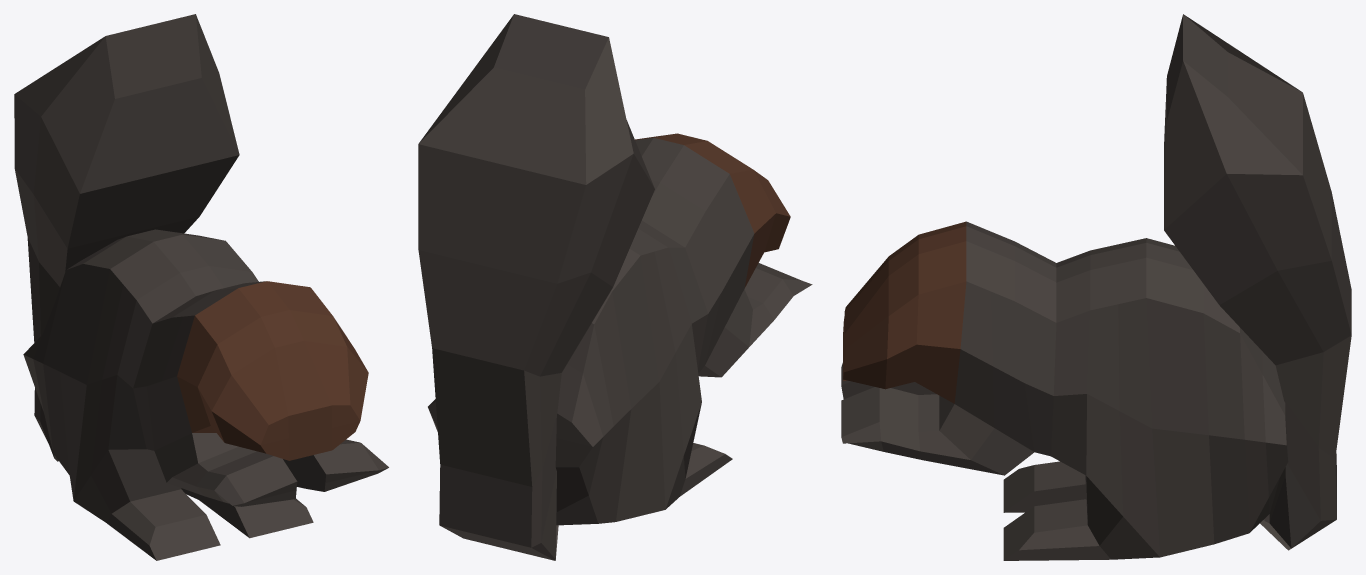
Rendered from squt.fbx.
3 renders of one model, left to right at view 1: azimuth 30°, elevation 25°; view 2: azimuth 150°, elevation 25°; view 3: azimuth 270°, elevation 25°, orthographic. The views are drawn at different scales.
Visible parts, largest first — view 1: Plane; view 2: Plane; view 3: Plane.
Boxes of the visible parts, left/top/right/bottom form: Plane: left=14, top=14, right=388, bottom=560; Plane: left=418, top=14, right=812, bottom=560; Plane: left=841, top=14, right=1351, bottom=560.
Size of the model in its own units: 282 by 698 by 658.
